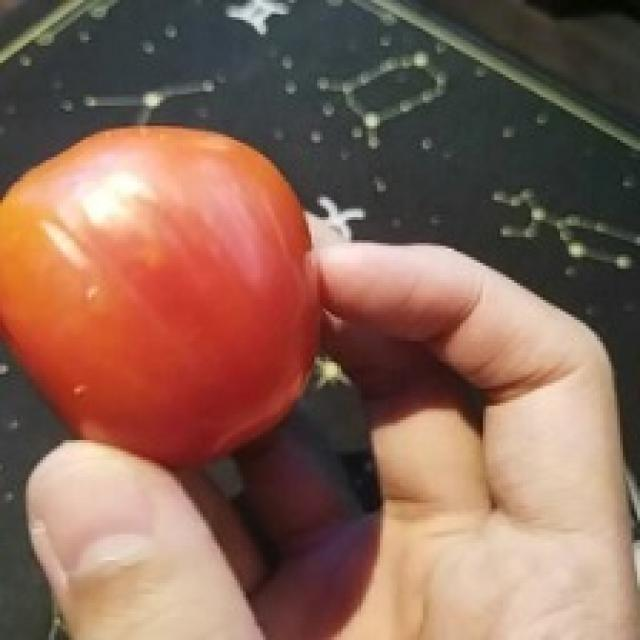Rotten Tomato: (0, 111, 357, 482)
